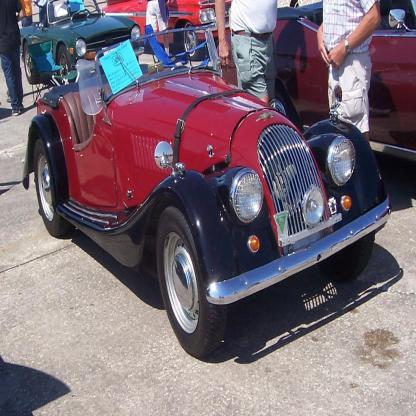Car: (21, 28, 392, 359), (216, 0, 415, 163), (20, 0, 145, 87), (102, 2, 233, 60)
